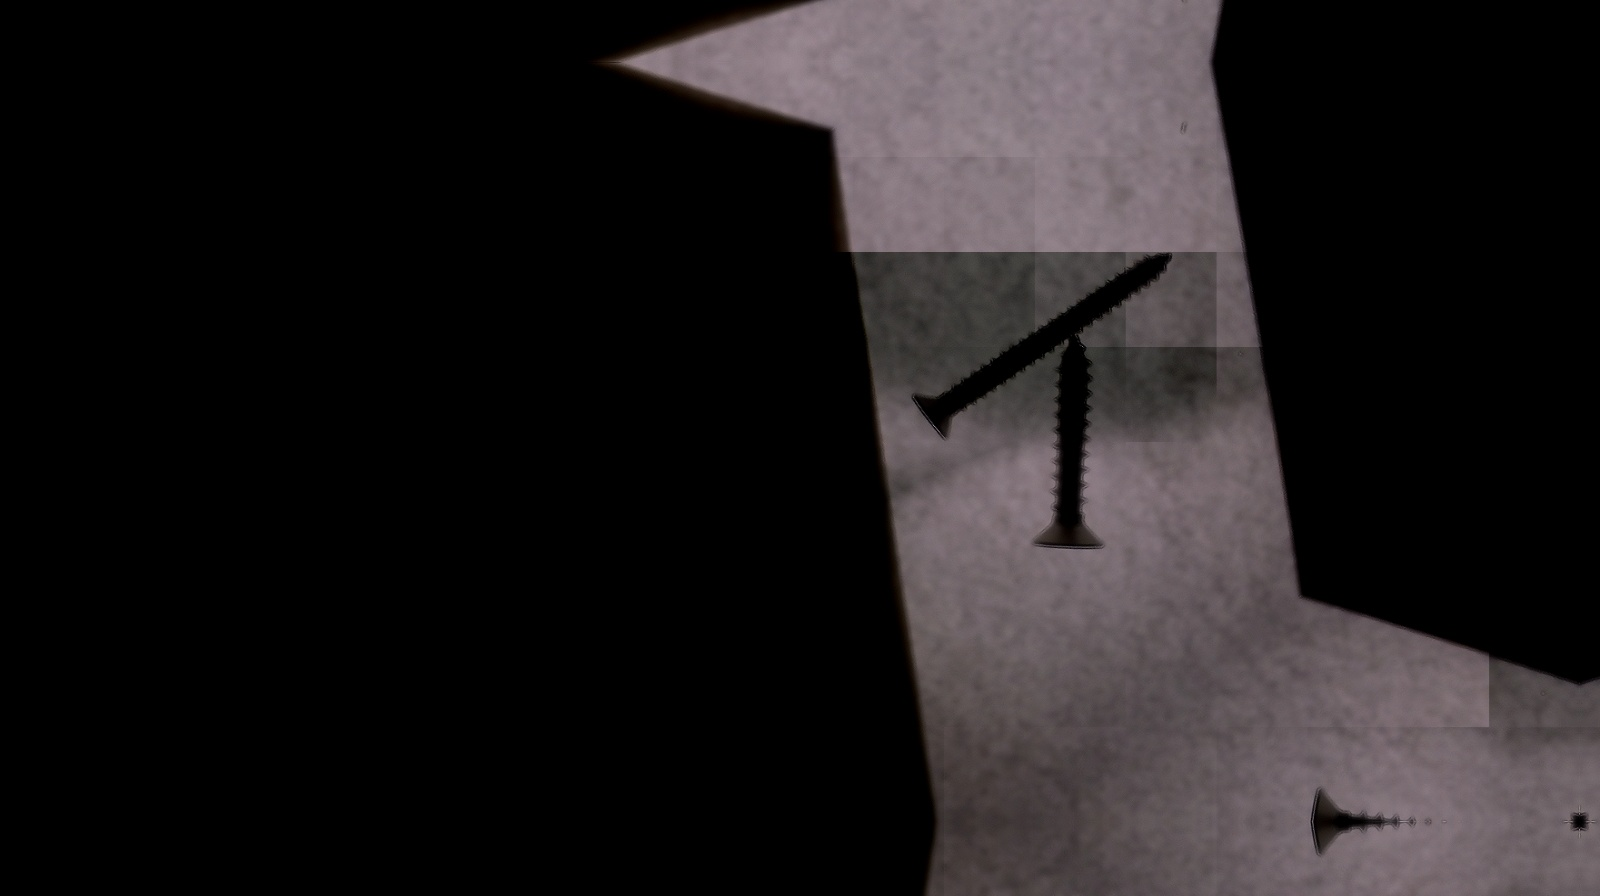S001: (937, 329, 1203, 580)
S002: (904, 215, 1179, 447)
